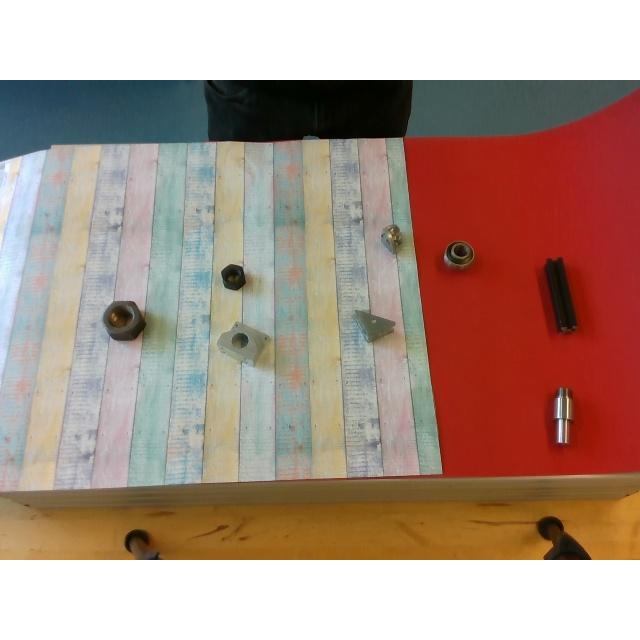Axis2: (554, 386, 574, 442)
Bearing2: (444, 240, 474, 264)
F20_20_B: (544, 258, 576, 329)
M20: (221, 264, 245, 288)
M30: (103, 300, 145, 338)
